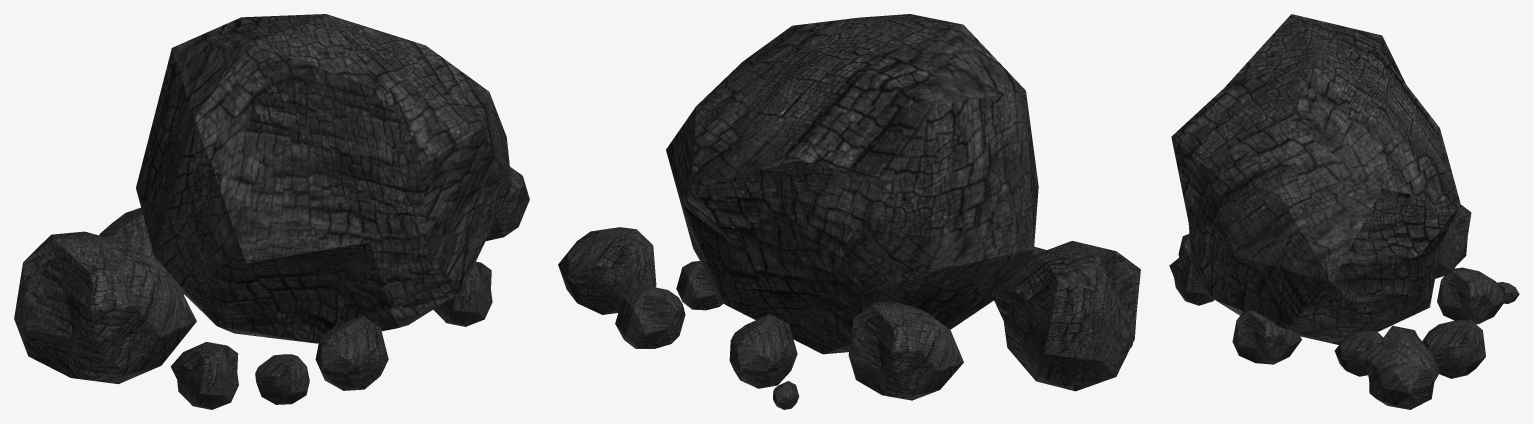
The model's file is coal-pile.fbx.
The picture shows the model from 3 angles, left to right: view 1: azimuth 30°, elevation 25°; view 2: azimuth 150°, elevation 25°; view 3: azimuth 270°, elevation 25°; orthographic projection. The views are drawn at different scales.
Visible parts, largest first — view 1: charcoal.005, charcoal.008, charcoal.007, charcoal.009, charcoal.010, charcoal.006, charcoal.003, charcoal.011; view 2: charcoal.005, charcoal.008, charcoal.011, charcoal.003, charcoal.001, charcoal.002, charcoal.004, charcoal.012; view 3: charcoal.005, charcoal.003, charcoal.001, charcoal.002, charcoal.006, charcoal.011, charcoal.004, charcoal.007.
Part boxes in pixels (box(x1,y1,x2,y2)): charcoal.005: box(136, 14, 511, 343); charcoal.008: box(14, 231, 196, 384); charcoal.007: box(315, 316, 388, 390); charcoal.009: box(170, 342, 238, 409); charcoal.010: box(255, 354, 309, 404); charcoal.006: box(433, 261, 492, 326); charcoal.003: box(486, 167, 529, 240); charcoal.011: box(99, 207, 183, 294); charcoal.005: box(666, 14, 1038, 354); charcoal.008: box(990, 241, 1140, 391); charcoal.011: box(848, 301, 963, 400); charcoal.003: box(558, 227, 656, 314); charcoal.001: box(729, 314, 797, 388); charcoal.002: box(615, 286, 685, 348); charcoal.004: box(676, 261, 723, 310); charcoal.012: box(773, 381, 799, 409); charcoal.005: box(1171, 14, 1460, 344); charcoal.003: box(1364, 325, 1439, 409); charcoal.001: box(1437, 267, 1506, 324); charcoal.002: box(1422, 320, 1485, 378); charcoal.006: box(1232, 310, 1301, 364); charcoal.011: box(1435, 205, 1471, 278); charcoal.004: box(1334, 330, 1383, 376); charcoal.007: box(1169, 251, 1213, 305).
Bounding box in the file's own units: 248 × 136 × 163.
1 material, 1 textured.
